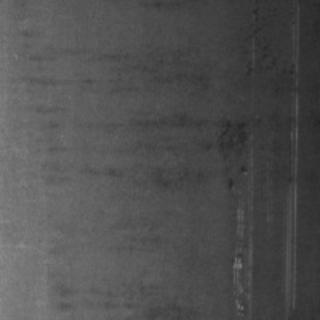scratches: (277, 102, 299, 312), (228, 196, 255, 312)
